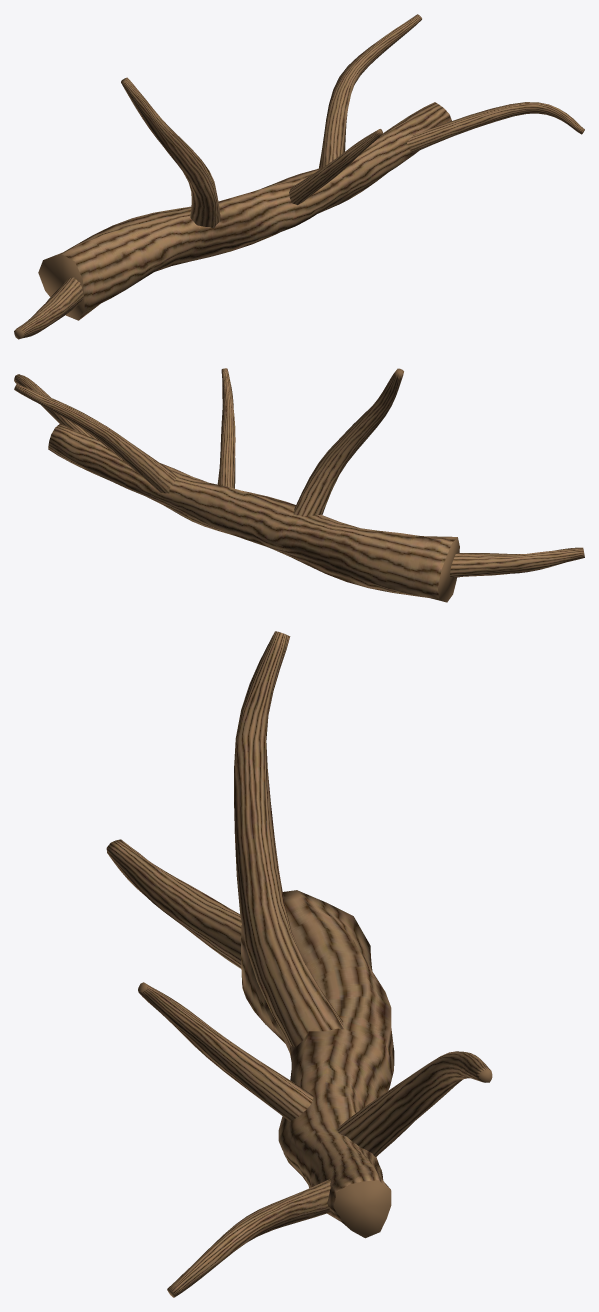
Rendered from prop_driftwood.glb.
3 views of the same model, one above another, from view 1: azimuth 30°, elevation 25°; view 2: azimuth 150°, elevation 25°; view 3: azimuth 270°, elevation 25° (orthographic). The views are drawn at different scales.
Parts seen in each view (by area): view 1: wood; view 2: wood; view 3: wood.
Boxes of the visible parts, x1,y1,x2,y2 form: wood: [14, 14, 584, 339]; wood: [14, 368, 584, 602]; wood: [106, 631, 492, 1297].
Size of the model in its own units: 22.38 by 8.33 by 6.71.
1 material, 1 textured.
